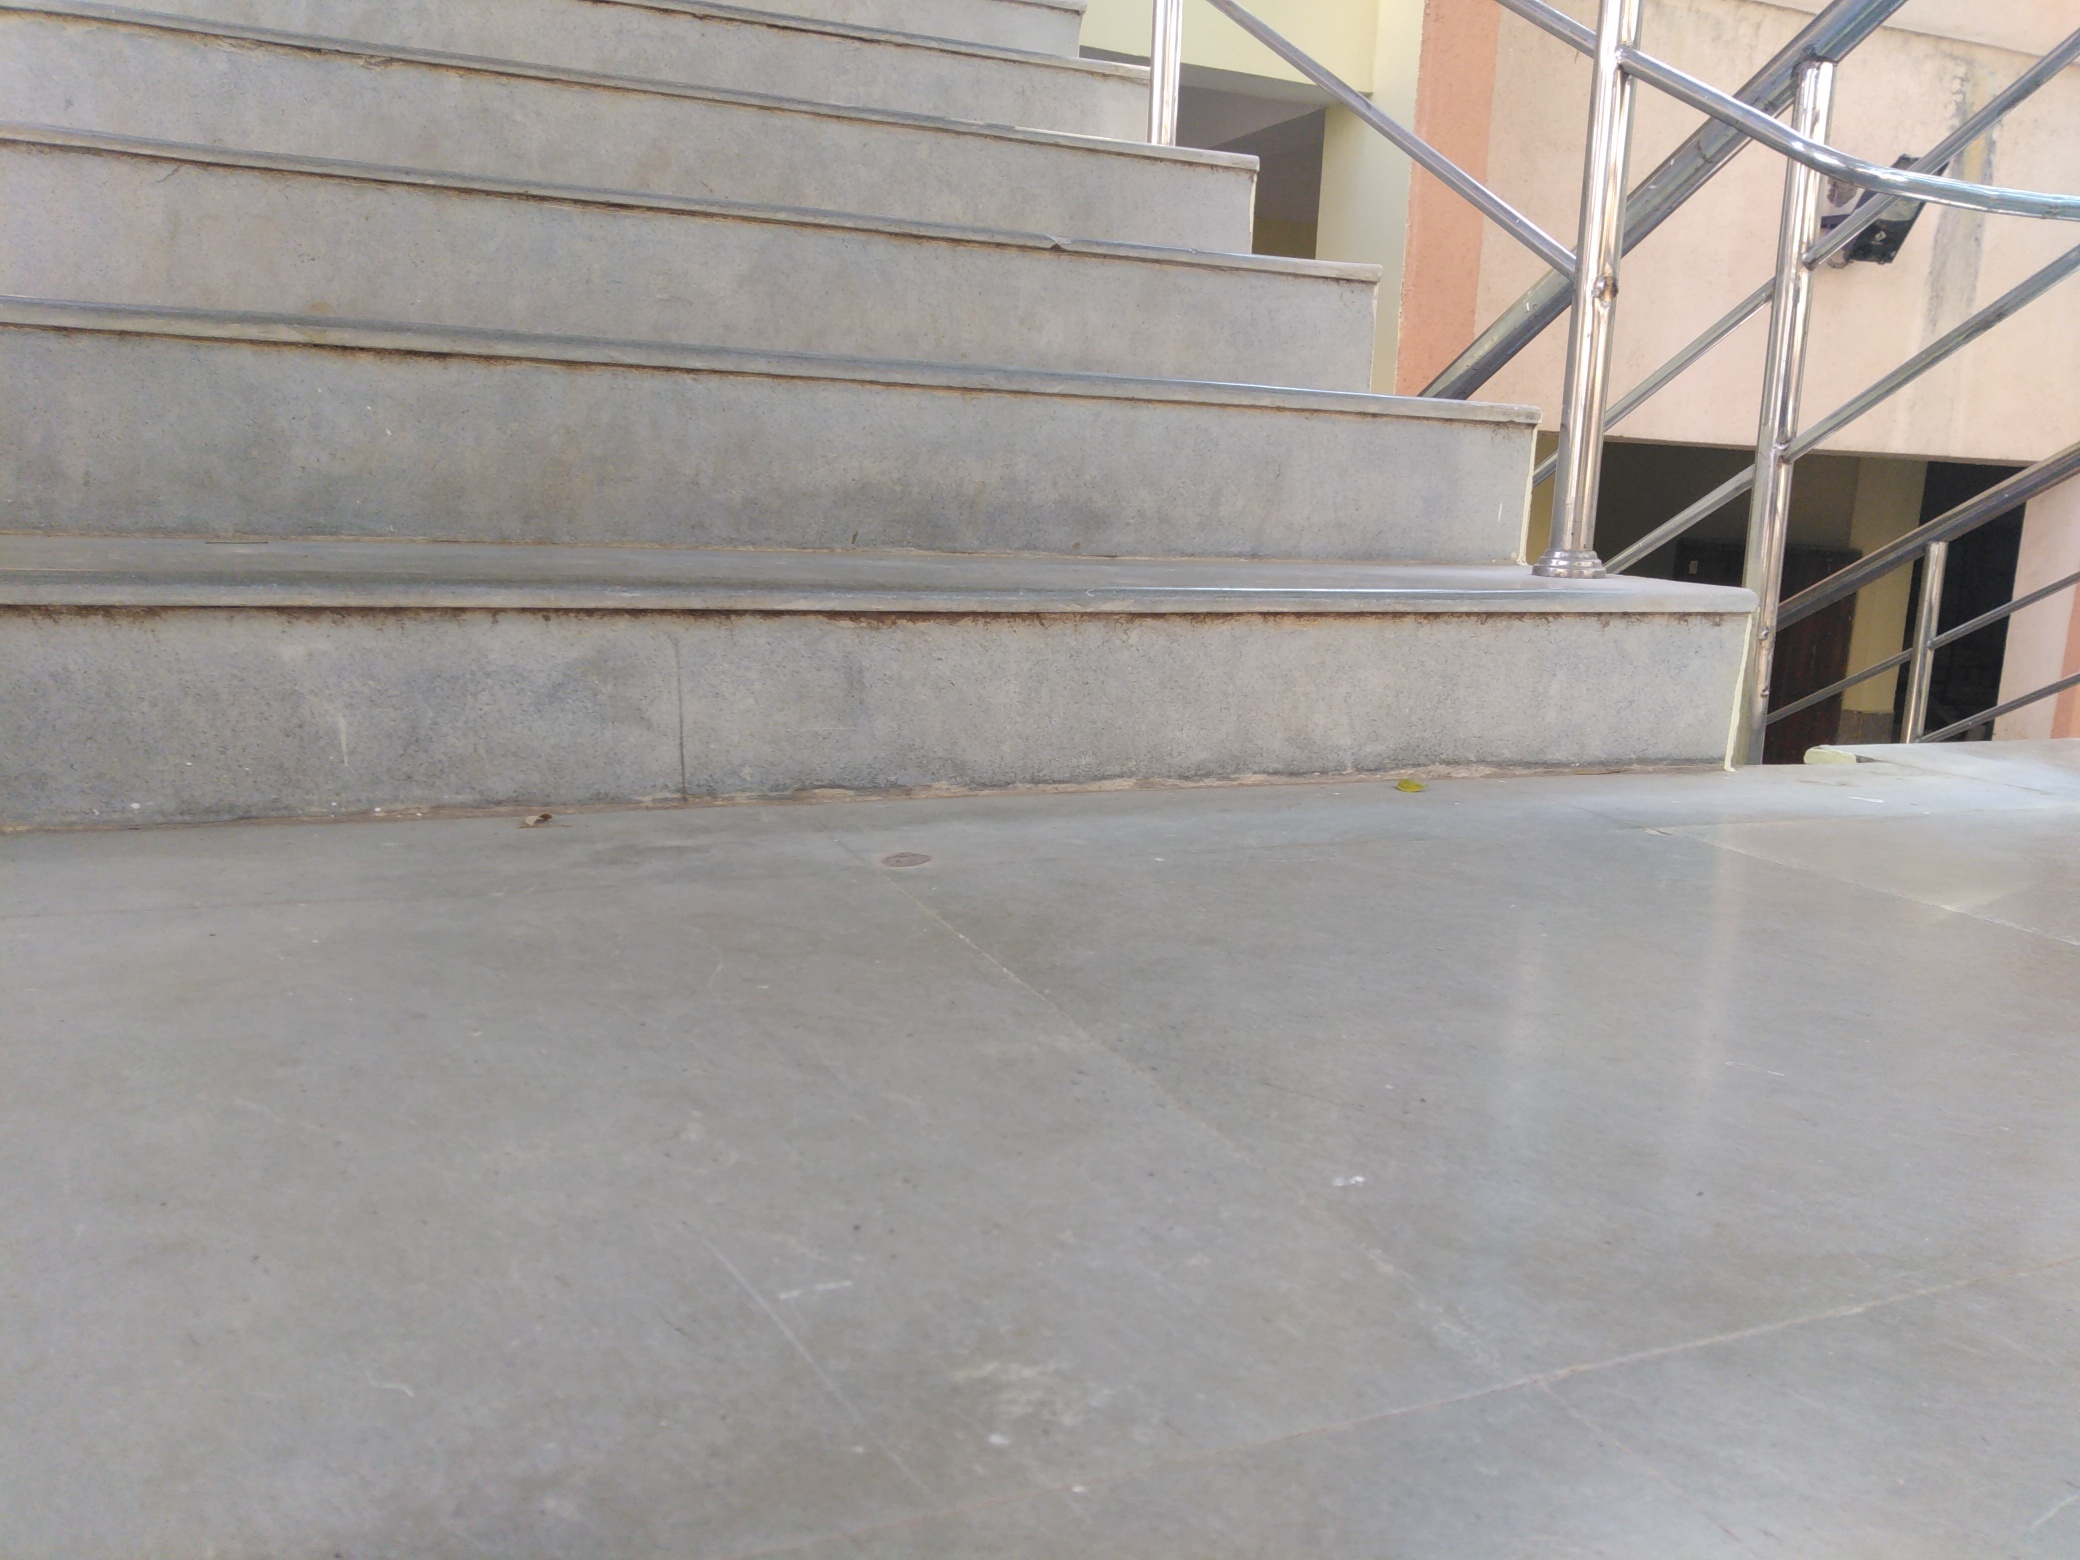stairs_up: (2, 2, 1744, 772)
